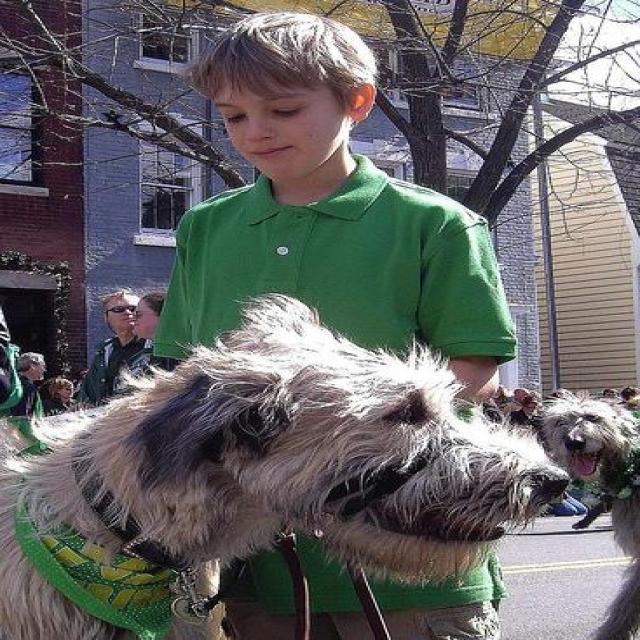irish_wolfhound: (0, 290, 567, 638)
